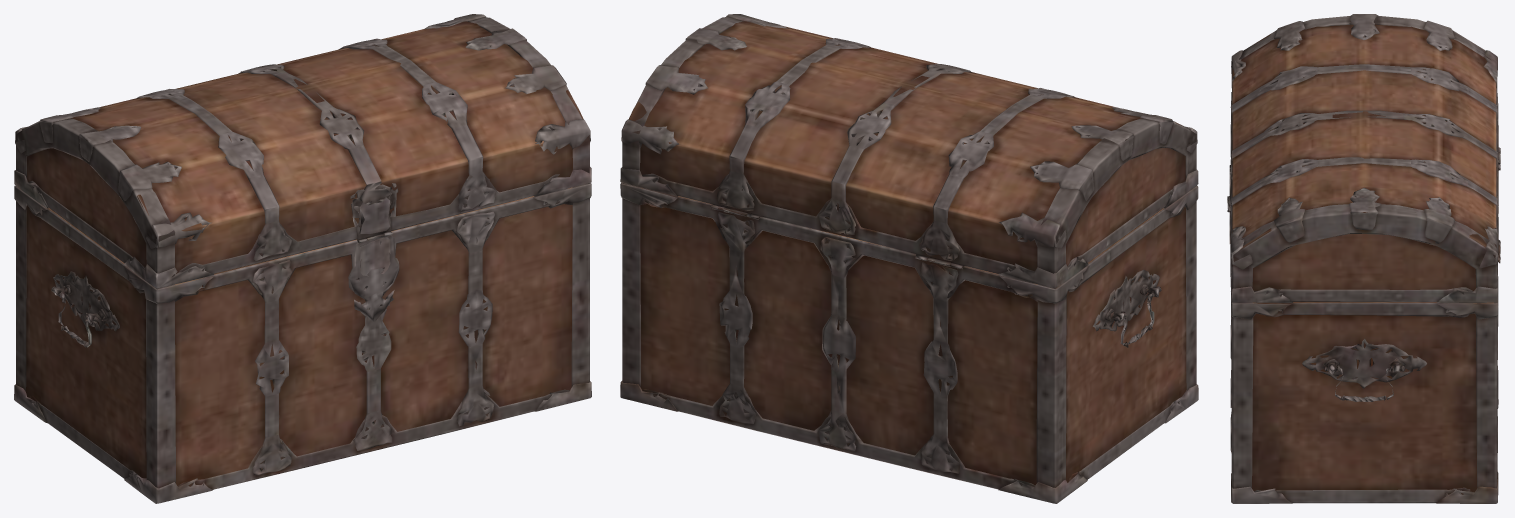
The model's file is treasure_chest.slim.glb.
3 renders of one model, left to right at view 1: azimuth 30°, elevation 25°; view 2: azimuth 150°, elevation 25°; view 3: azimuth 270°, elevation 25°, orthographic. The views are drawn at different scales.
Size of the model in its own units: 0.9551 by 0.6184 by 0.5222.
Materials: 1 (1 with a texture image).
